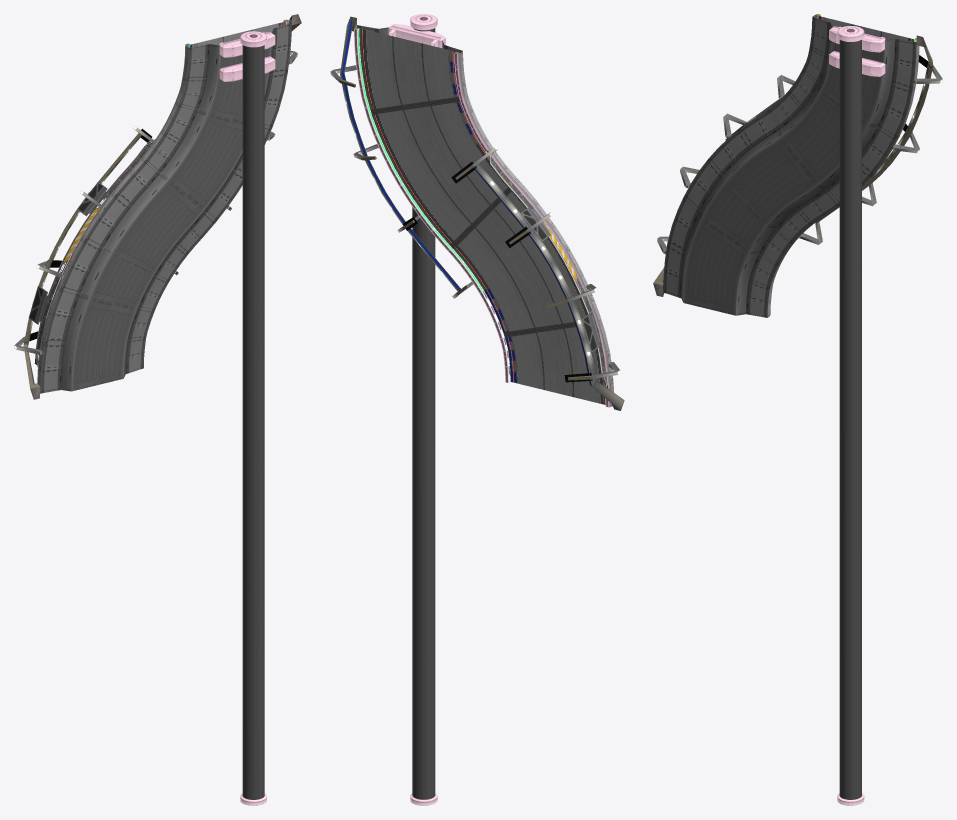
File: T32 - Magnetic 2.fbx
3 renders of one model, left to right at view 1: azimuth 30°, elevation 25°; view 2: azimuth 150°, elevation 25°; view 3: azimuth 330°, elevation 25°, orthographic. The views are drawn at different scales.
Visible parts, largest first — view 1: standard_bridge, support_pylon, mag_sbend_cage4, corner_arrows_steering_large1, wall_drift10, support_hinge_base__1_, support_hinge_base; view 2: visual_drift_road, support_pylon, mag_sbend_cage4, wall_drift10, magnetic_road_lines, standard_bridge, corner_arrows_steering_large1, support_hinge_base, light_bloom_night3; view 3: standard_bridge, support_pylon, mag_sbend_cage4, support_hinge_base__1_, support_hinge_base.
Boxes of the visible parts, bbox=[...] form: standard_bridge: bbox=[38, 20, 291, 393]; support_pylon: bbox=[242, 45, 264, 799]; mag_sbend_cage4: bbox=[14, 14, 301, 399]; corner_arrows_steering_large1: bbox=[34, 139, 155, 370]; wall_drift10: bbox=[37, 19, 288, 383]; support_hinge_base__1_: bbox=[219, 56, 275, 81]; support_hinge_base: bbox=[219, 32, 275, 57]; visual_drift_road: bbox=[359, 28, 605, 404]; support_pylon: bbox=[412, 28, 435, 799]; mag_sbend_cage4: bbox=[330, 16, 624, 410]; wall_drift10: bbox=[354, 27, 611, 407]; magnetic_road_lines: bbox=[377, 36, 575, 397]; standard_bridge: bbox=[355, 25, 613, 405]; corner_arrows_steering_large1: bbox=[485, 150, 608, 388]; support_hinge_base: bbox=[388, 24, 445, 47]; light_bloom_night3: bbox=[402, 162, 592, 382]; standard_bridge: bbox=[663, 15, 918, 317]; support_pylon: bbox=[839, 39, 861, 799]; mag_sbend_cage4: bbox=[653, 35, 942, 296]; support_hinge_base__1_: bbox=[829, 51, 885, 76]; support_hinge_base: bbox=[829, 26, 885, 52].
Bounding box in the file's own units: 12158 × 31566 × 3306.
